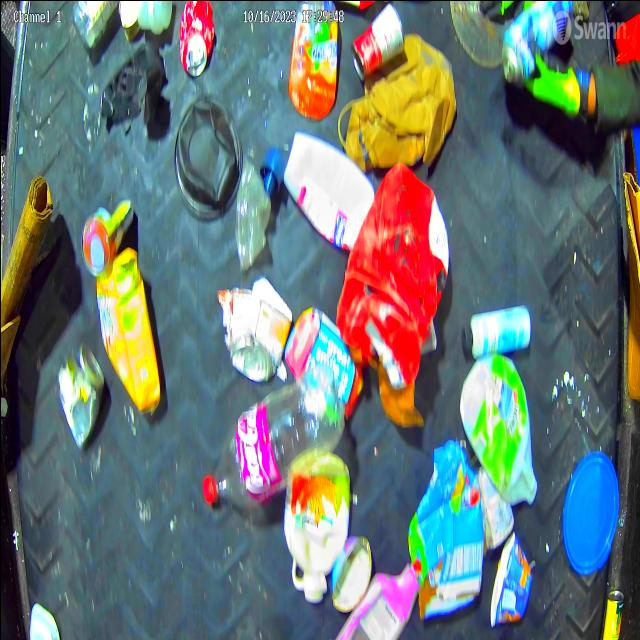can: (348, 6, 414, 79), (175, 0, 223, 86)
milk_jug: (459, 364, 538, 509), (286, 444, 354, 602)
plastic_bottle: (195, 375, 342, 514)
